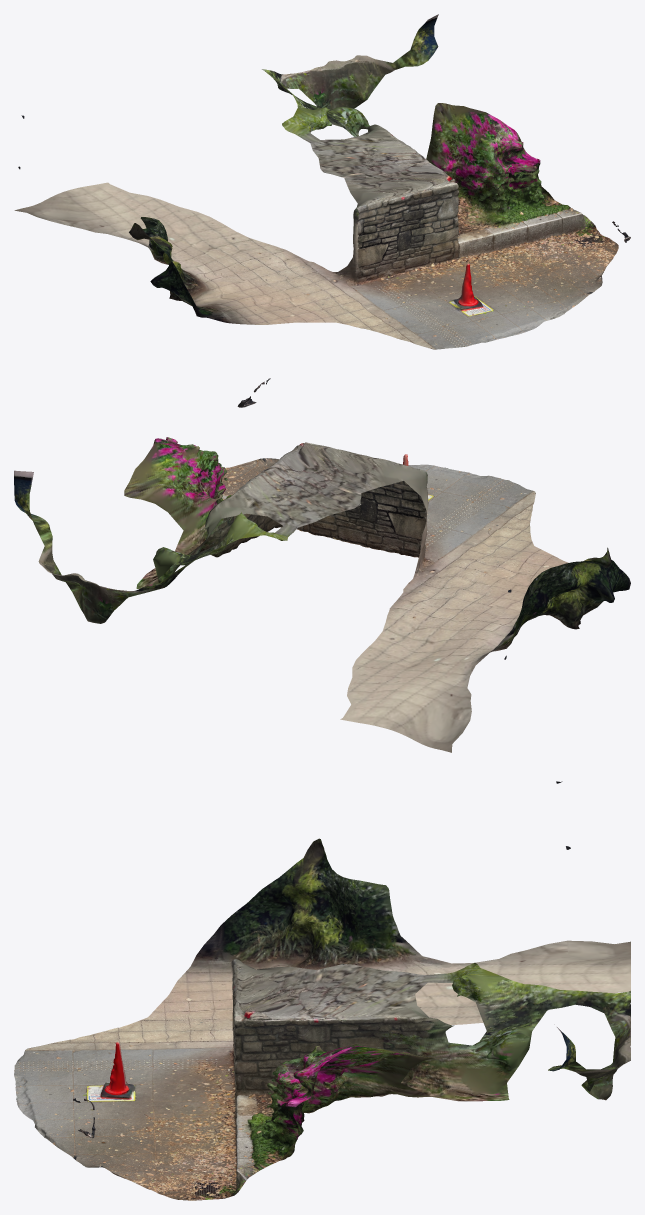
3 views of the same model, one above another, from view 1: azimuth 30°, elevation 25°; view 2: azimuth 150°, elevation 25°; view 3: azimuth 270°, elevation 25° (orthographic). The views are drawn at different scales.
Parts seen in each view (by area): view 1: baked_mesh_842ac5e7; view 2: baked_mesh_842ac5e7; view 3: baked_mesh_842ac5e7.
Part boxes in pixels (left/top/right/bottom): baked_mesh_842ac5e7: left=14, top=14, right=630, bottom=349; baked_mesh_842ac5e7: left=14, top=378, right=630, bottom=752; baked_mesh_842ac5e7: left=14, top=781, right=630, bottom=1200.
Size of the model in its own units: 2.83 by 0.774 by 2.77.
1 material, 1 textured.
